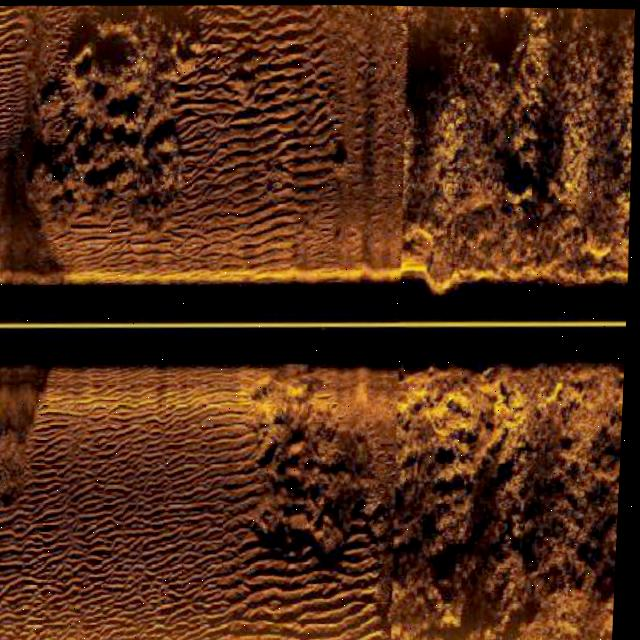mine: (482, 363, 495, 377)
